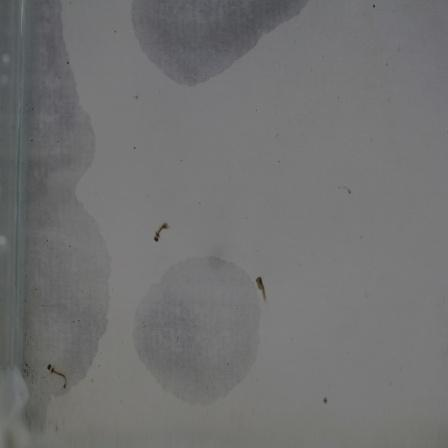Jentik-Nyamuk: (40, 358, 71, 395), (152, 219, 173, 247), (253, 274, 269, 305)
